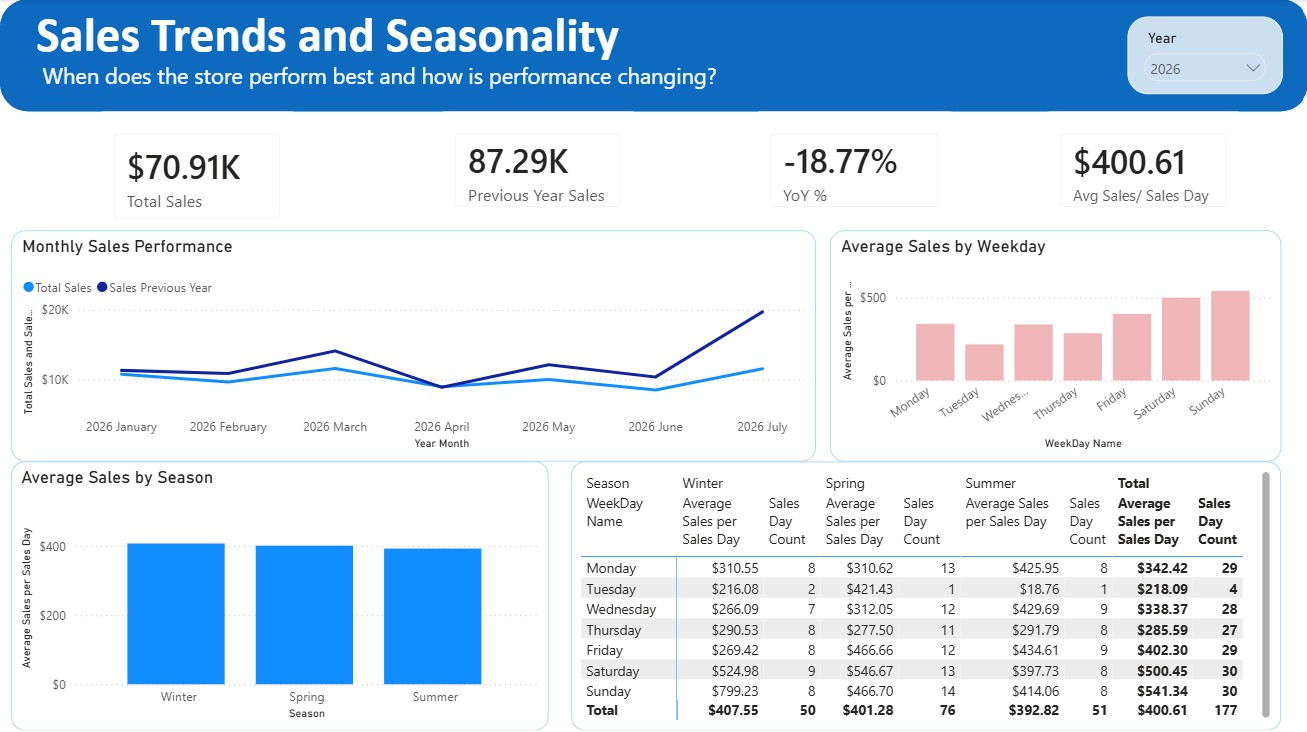

The page's visual inventory and layout, read from the dashboard file:
{"tool":"powerbi","page":{"name":"Sales trend and Seasonality","canvas":[1280,720],"ordinal":2},"visuals":[{"type":"shape","box":[0,0,1280.3,110.1],"z":0},{"type":"textbox","box":[11,0,618.8,72.1],"z":1000},{"type":"slicer","fields":{"Values":["DateTable.Year"]},"box":[1103,17.1,152,76],"z":2000},{"type":"textbox","box":[36.7,55,694.6,41.6],"z":3000},{"type":"cardVisual","title":"Total Sales","fields":{"Data":["Metrics.Total Sales"]},"box":[89.3,110.1,207.9,127.2],"z":4000},{"type":"cardVisual","fields":{"Data":["Metrics.Sales Previous Year"]},"box":[423.1,110.1,207,116],"z":5000},{"type":"cardVisual","fields":{"Data":["Metrics.YoY %"]},"box":[731.3,110.1,210.3,116.2],"z":6000},{"type":"cardVisual","fields":{"Data":["Metrics.Average Sales per Sales Day"]},"box":[1015,110.1,207,116],"z":7000},{"type":"lineChart","title":"Monthly Sales Performance","fields":{"Y":["Metrics.Total Sales","Metrics.Sales Previous Year"],"Category":["DateTable.Year Month"]},"box":[11,226.2,787.5,226.2],"z":8000},{"type":"clusteredColumnChart","title":"Average Sales by Weekday","fields":{"Y":["Metrics.Average Sales per Sales Day"],"Category":["DateTable.WeekDay Name"]},"box":[812,226.2,441.4,226.2],"z":9000},{"type":"clusteredColumnChart","title":"Average Sales by Season","fields":{"Y":["Metrics.Average Sales per Sales Day"],"Category":["DateTable.Season"]},"box":[11,452.4,525.8,262.9],"z":10000},{"type":"pivotTable","fields":{"Values":["Metrics.Average Sales per Sales Day","Metrics.Sales Day Count"],"Rows":["DateTable.WeekDay Name"],"Columns":["DateTable.Season"]},"box":[558.8,452.4,694.6,262.9],"z":11000}]}

Visuals, with their boxes in screenshot pixels (x1, y1, x2, y2), scaled from the page's 1280x720 canvas onto the 1307x732 screenshot:
shape: [x1=0, y1=0, x2=1306, y2=112]
textbox: [x1=11, y1=0, x2=643, y2=73]
slicer - DateTable.Year: [x1=1126, y1=17, x2=1281, y2=95]
textbox: [x1=37, y1=56, x2=747, y2=98]
"Total Sales" cardVisual: [x1=91, y1=112, x2=303, y2=241]
cardVisual - Metrics.Sales Previous Year: [x1=432, y1=112, x2=643, y2=230]
cardVisual - Metrics.YoY %: [x1=747, y1=112, x2=961, y2=230]
cardVisual - Metrics.Average Sales per Sales Day: [x1=1036, y1=112, x2=1248, y2=230]
"Monthly Sales Performance" lineChart: [x1=11, y1=230, x2=815, y2=460]
"Average Sales by Weekday" clusteredColumnChart: [x1=829, y1=230, x2=1280, y2=460]
"Average Sales by Season" clusteredColumnChart: [x1=11, y1=460, x2=548, y2=727]
pivotTable - Metrics.Average Sales per Sales Day x Metrics.Sales Day Count: [x1=571, y1=460, x2=1280, y2=727]
